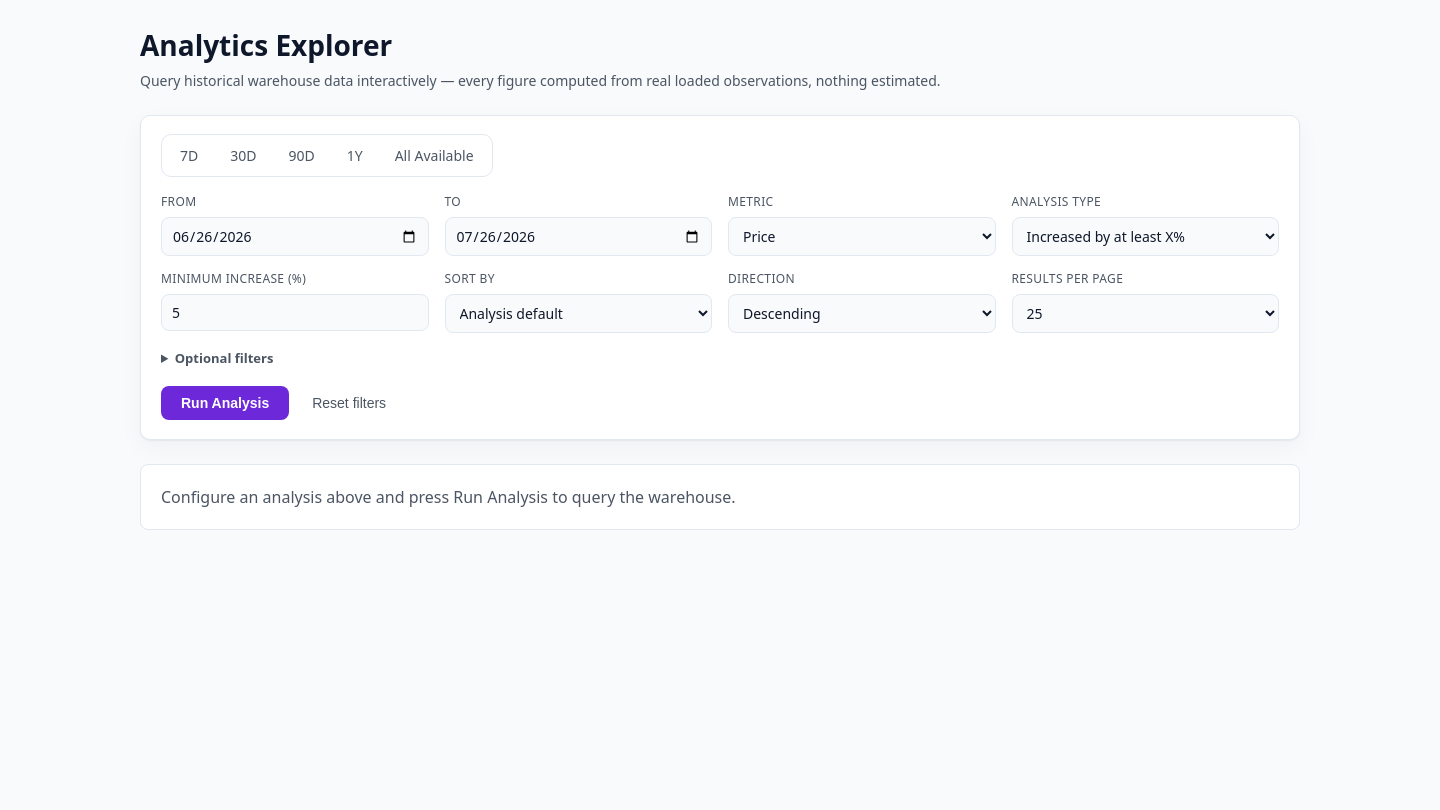
Test: AnalyticsExplorer › runs the analysis and renders the result table with summary cards
The image size is (1440, 810).
Click the button "Run Analysis" at (225, 402), box [161, 386, 289, 420]
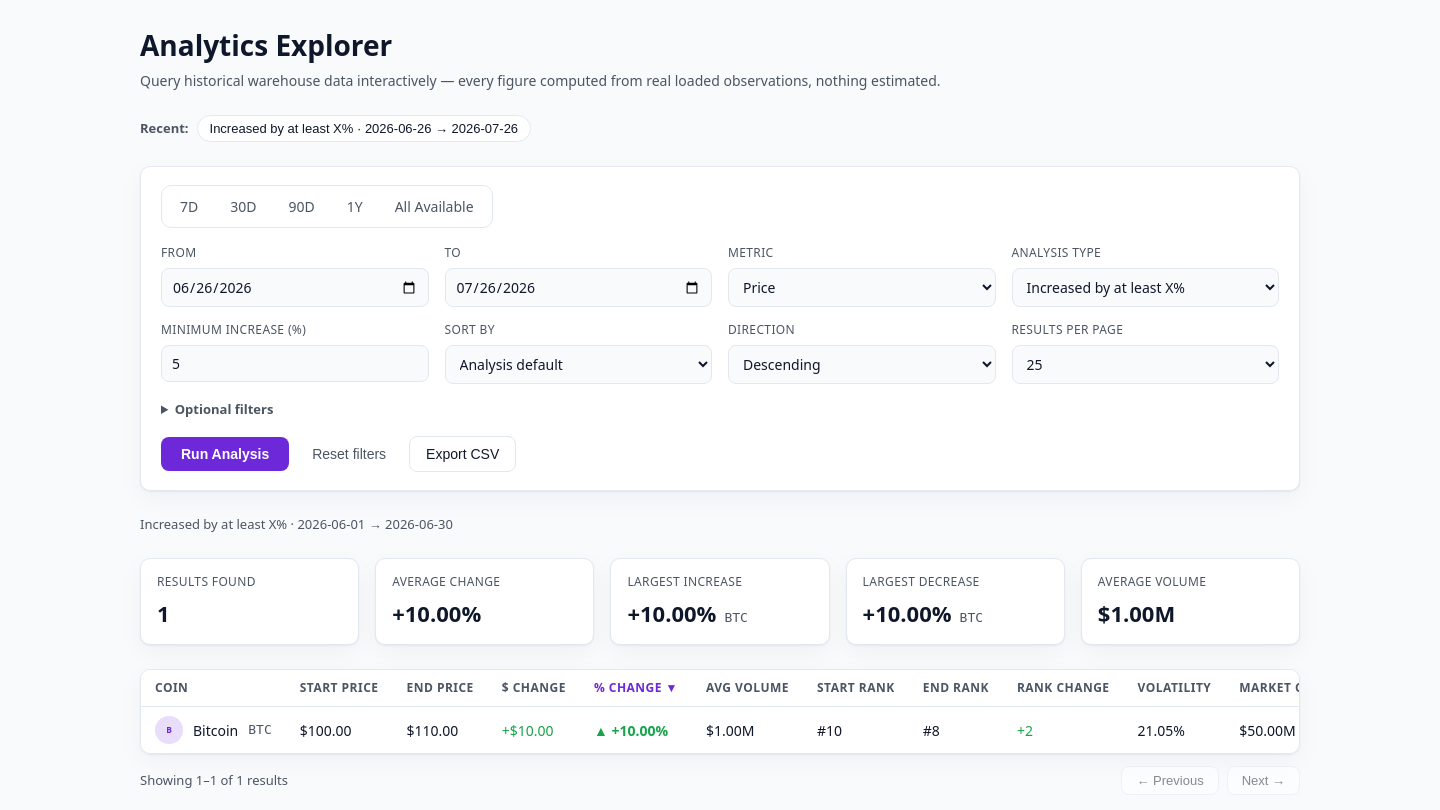
Result: the text "Bitcoin" is shown at [193, 720, 238, 740]
Result: the text "Results Found" is shown at [157, 573, 256, 590]
Result: the text "Average Change" is shown at [392, 573, 500, 590]
